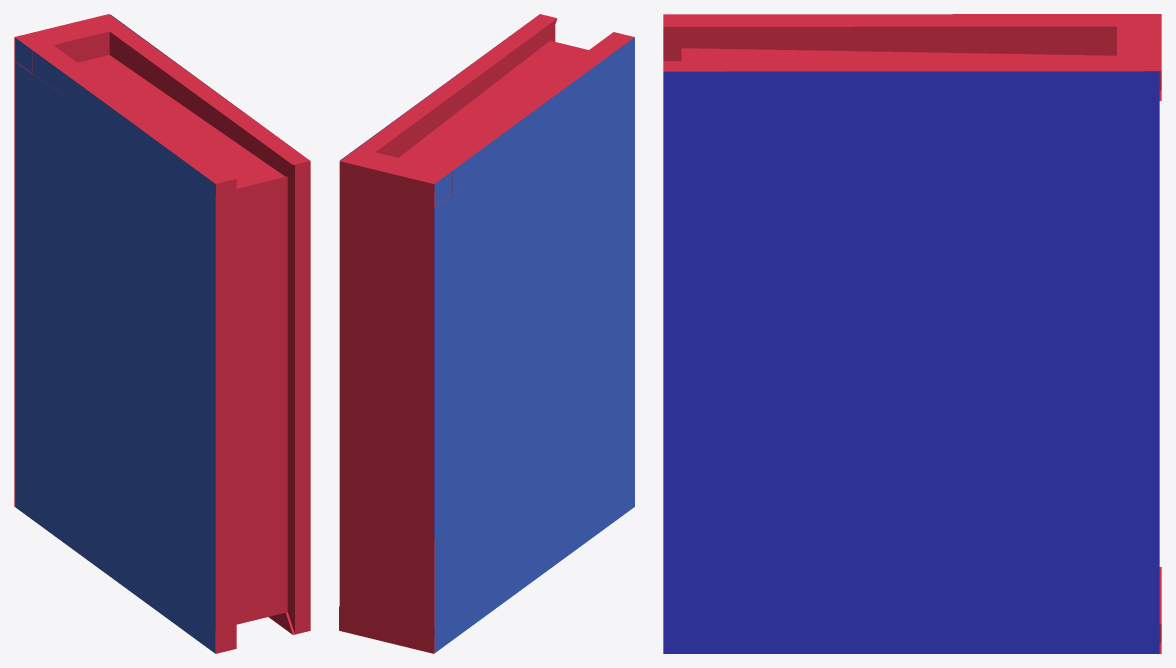
The model's file is yearbook.glb.
3 views of the same model, side by side, from view 1: azimuth 30°, elevation 25°; view 2: azimuth 150°, elevation 25°; view 3: azimuth 270°, elevation 25° (orthographic). The views are drawn at different scales.
Parts seen in each view (by area): view 1: Back, Spine; view 2: Back, Spine, Front; view 3: Front, Spine.
Part boxes in pixels (box(x1,y1,x2,y2)): Back: box(15, 38, 215, 653); Spine: box(14, 14, 310, 653); Back: box(434, 37, 634, 652); Spine: box(339, 14, 634, 653); Front: box(340, 40, 503, 539); Front: box(663, 71, 1159, 653); Spine: box(663, 14, 1161, 653).
Bounding box in the file's own units: 0.3583 × 1.69 × 1.31.
